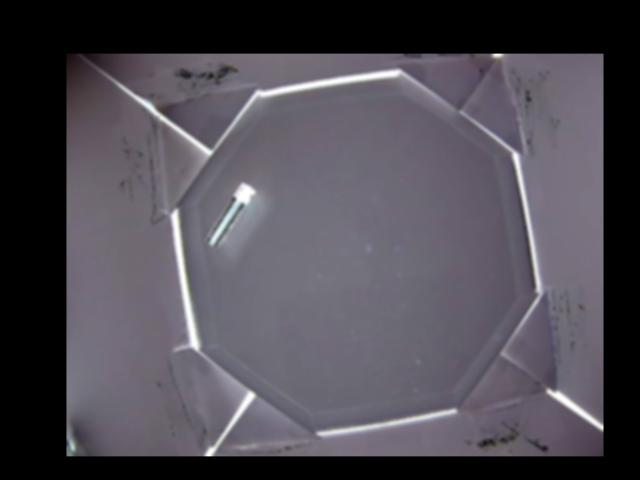Battery: (206, 180, 257, 253)
